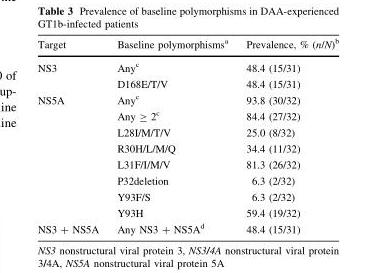table: (37, 37, 338, 234)
table column: (107, 37, 236, 234), (236, 37, 338, 234), (37, 37, 107, 234)
table column header: (37, 37, 338, 55)
table row: (37, 55, 338, 76), (37, 37, 338, 55), (37, 107, 338, 124), (37, 172, 338, 189), (37, 91, 338, 107), (37, 124, 338, 140), (37, 140, 338, 156), (37, 156, 338, 172), (37, 189, 338, 205), (37, 76, 338, 91), (37, 205, 338, 220), (37, 220, 338, 234)
table spanning cell: (37, 91, 107, 220), (37, 55, 107, 91)
